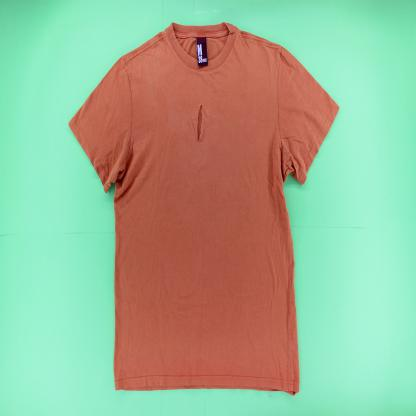hole: (196, 104, 203, 142)
